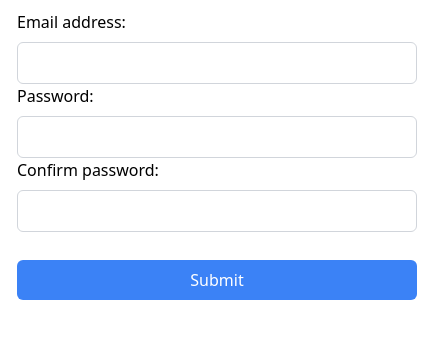
Scenario: 05-form-testing › should show password error if password is less than 5 characters
Check: the text "password must be at least 5 characters" is not shown
# Type the invalid password
Type "test@test.com" into the field labelled "Email address:". click: (217,63)
box: [17,42,417,84]
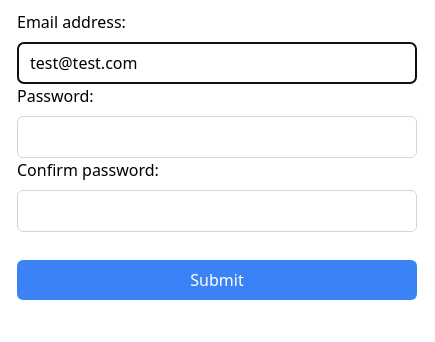
Type "1234" into the password field labelled "Password:". click: (217,137)
box: [17,116,417,158]
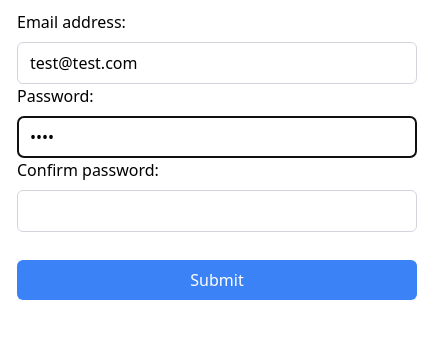
Click the button "Submit". click: (217,280)
box: [17,260,417,300]
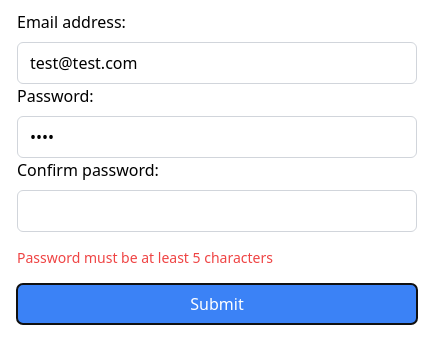
Check: the text "Password must be at least 5 characters" is shown, box [17,248,273,267]
